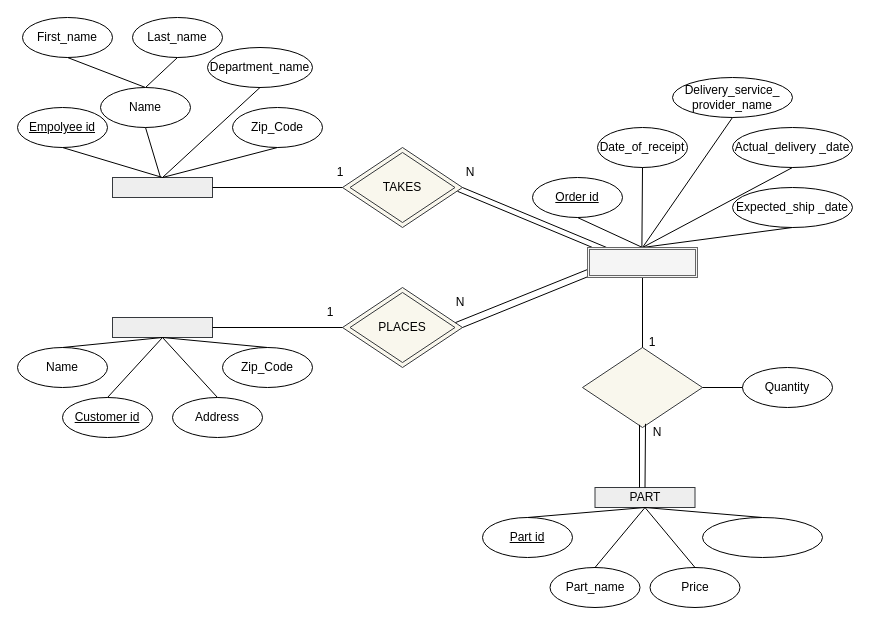
Some shapes in this 870 by 625 pixel diagram are drawn without their labels. The shapes that lost their labels are listed below. From the top down, each one's centre as x and y in pixels, then its label:
(162,187): EMPLOYEE
(642,262): ORDER
(162,327): CUSTOMER
(642,387): CONTAINS
(762,537): Quantity_in _stock
